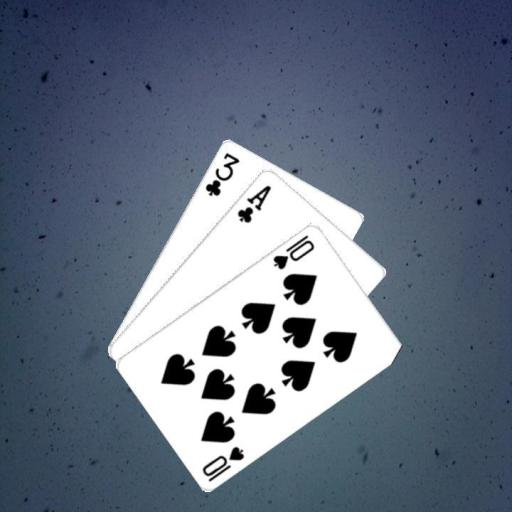10S: (198, 442, 246, 483), (270, 231, 317, 271)
3C: (201, 149, 241, 197)
AC: (234, 181, 273, 225)
